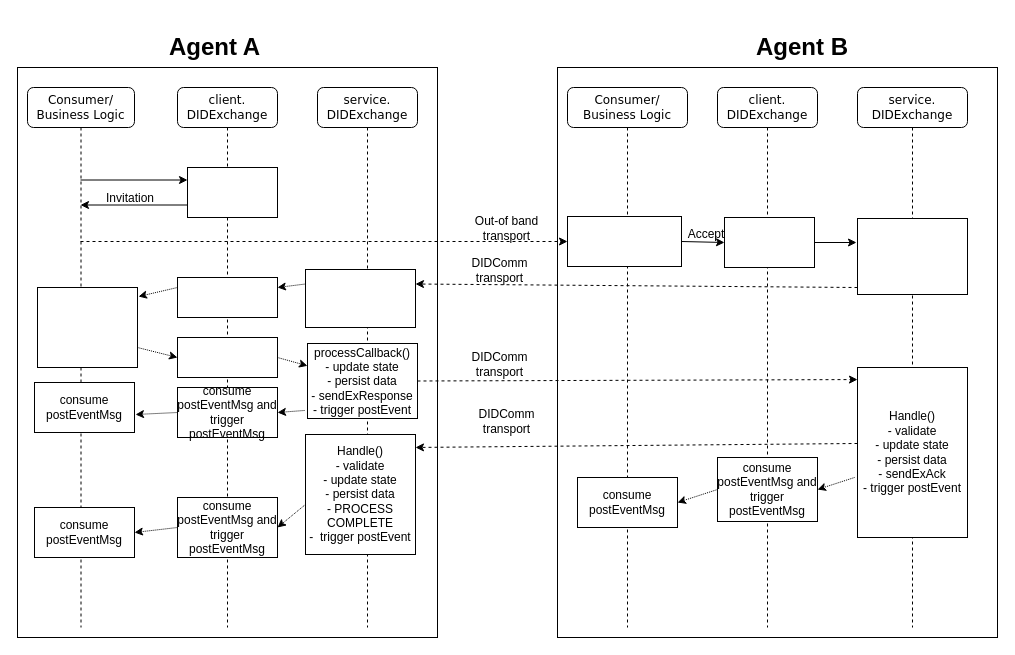
The diagram is 1015 pixels wide and 655 high, and some of its shapes have lost their labels. The shapes that lost their labels are listed below. From the top down, each one's centre as x and y in pixels, then its label:
the point at 232,192: CreateInvitation ()
the point at 624,241: 1.Receive Invitation 2. Accept/Reject
the point at 769,242: HandleInvitation ()
the point at 912,256: Handle() - update state - persist data - sendExRequest
the point at 227,297: Consume ExRequest Event & trigger event
the point at 360,298: Handle() - validate - trigger event
the point at 87,327: Consume ExRequest Event & invoke callback
the point at 227,357: invoke callback
